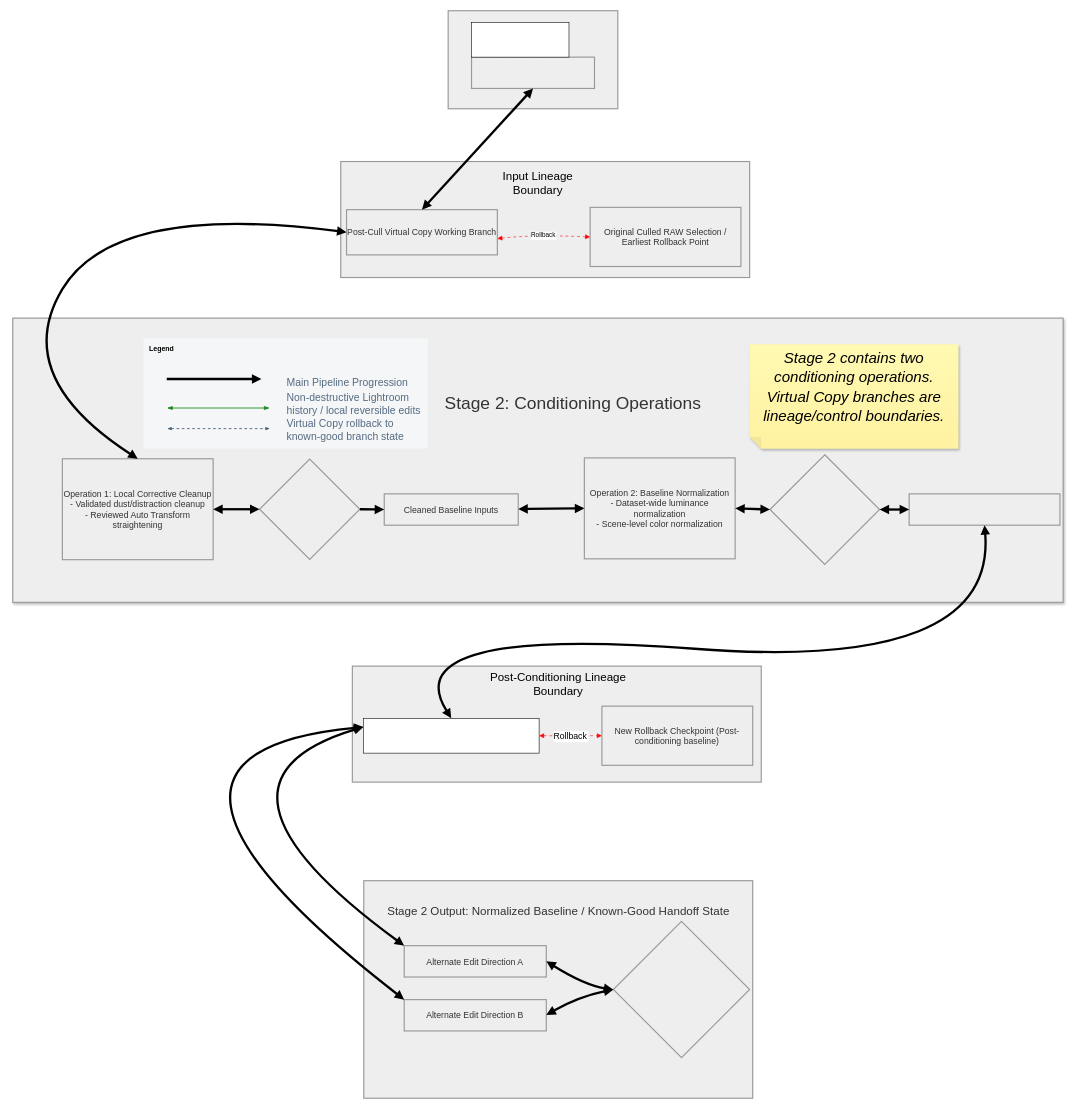
Some shapes in this 1077 by 1108 pixel diagram are drawn without their labels. The shapes that lost their labels are listed below. From the top down, each one's centre as x and y in pixels, then its label:
At (x=520, y=39): "Stage 1 Output: Metadata-Applied Image Subset".
At (x=533, y=72): "Culled RAW Selection".
At (x=309, y=509): "Operator Review".
At (x=824, y=509): "Review Checkpoint".
At (x=984, y=509): "Normalized Baseline Images".
At (x=451, y=735): "Stage 2 Output Working Branch".
At (x=681, y=989): "Compare / Keep / Revert".
